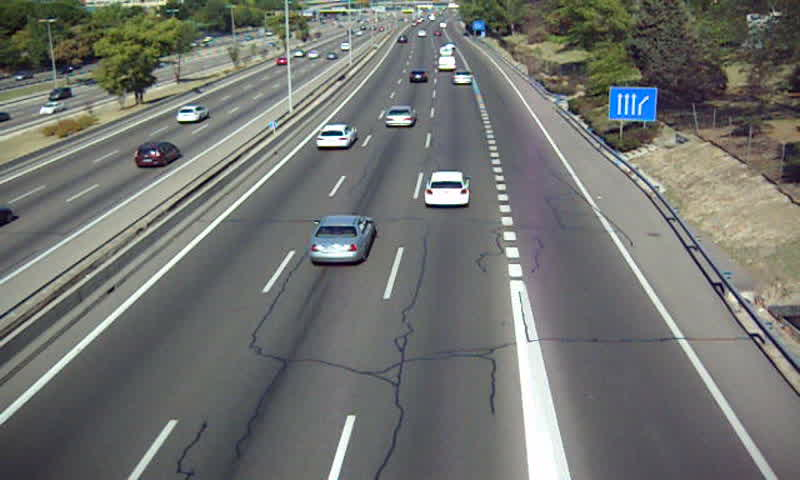car: (308, 214, 377, 264), (426, 172, 470, 207), (315, 124, 355, 149), (385, 106, 416, 130), (452, 70, 474, 86), (406, 70, 428, 84)
van: (437, 56, 457, 70), (440, 45, 454, 58)
